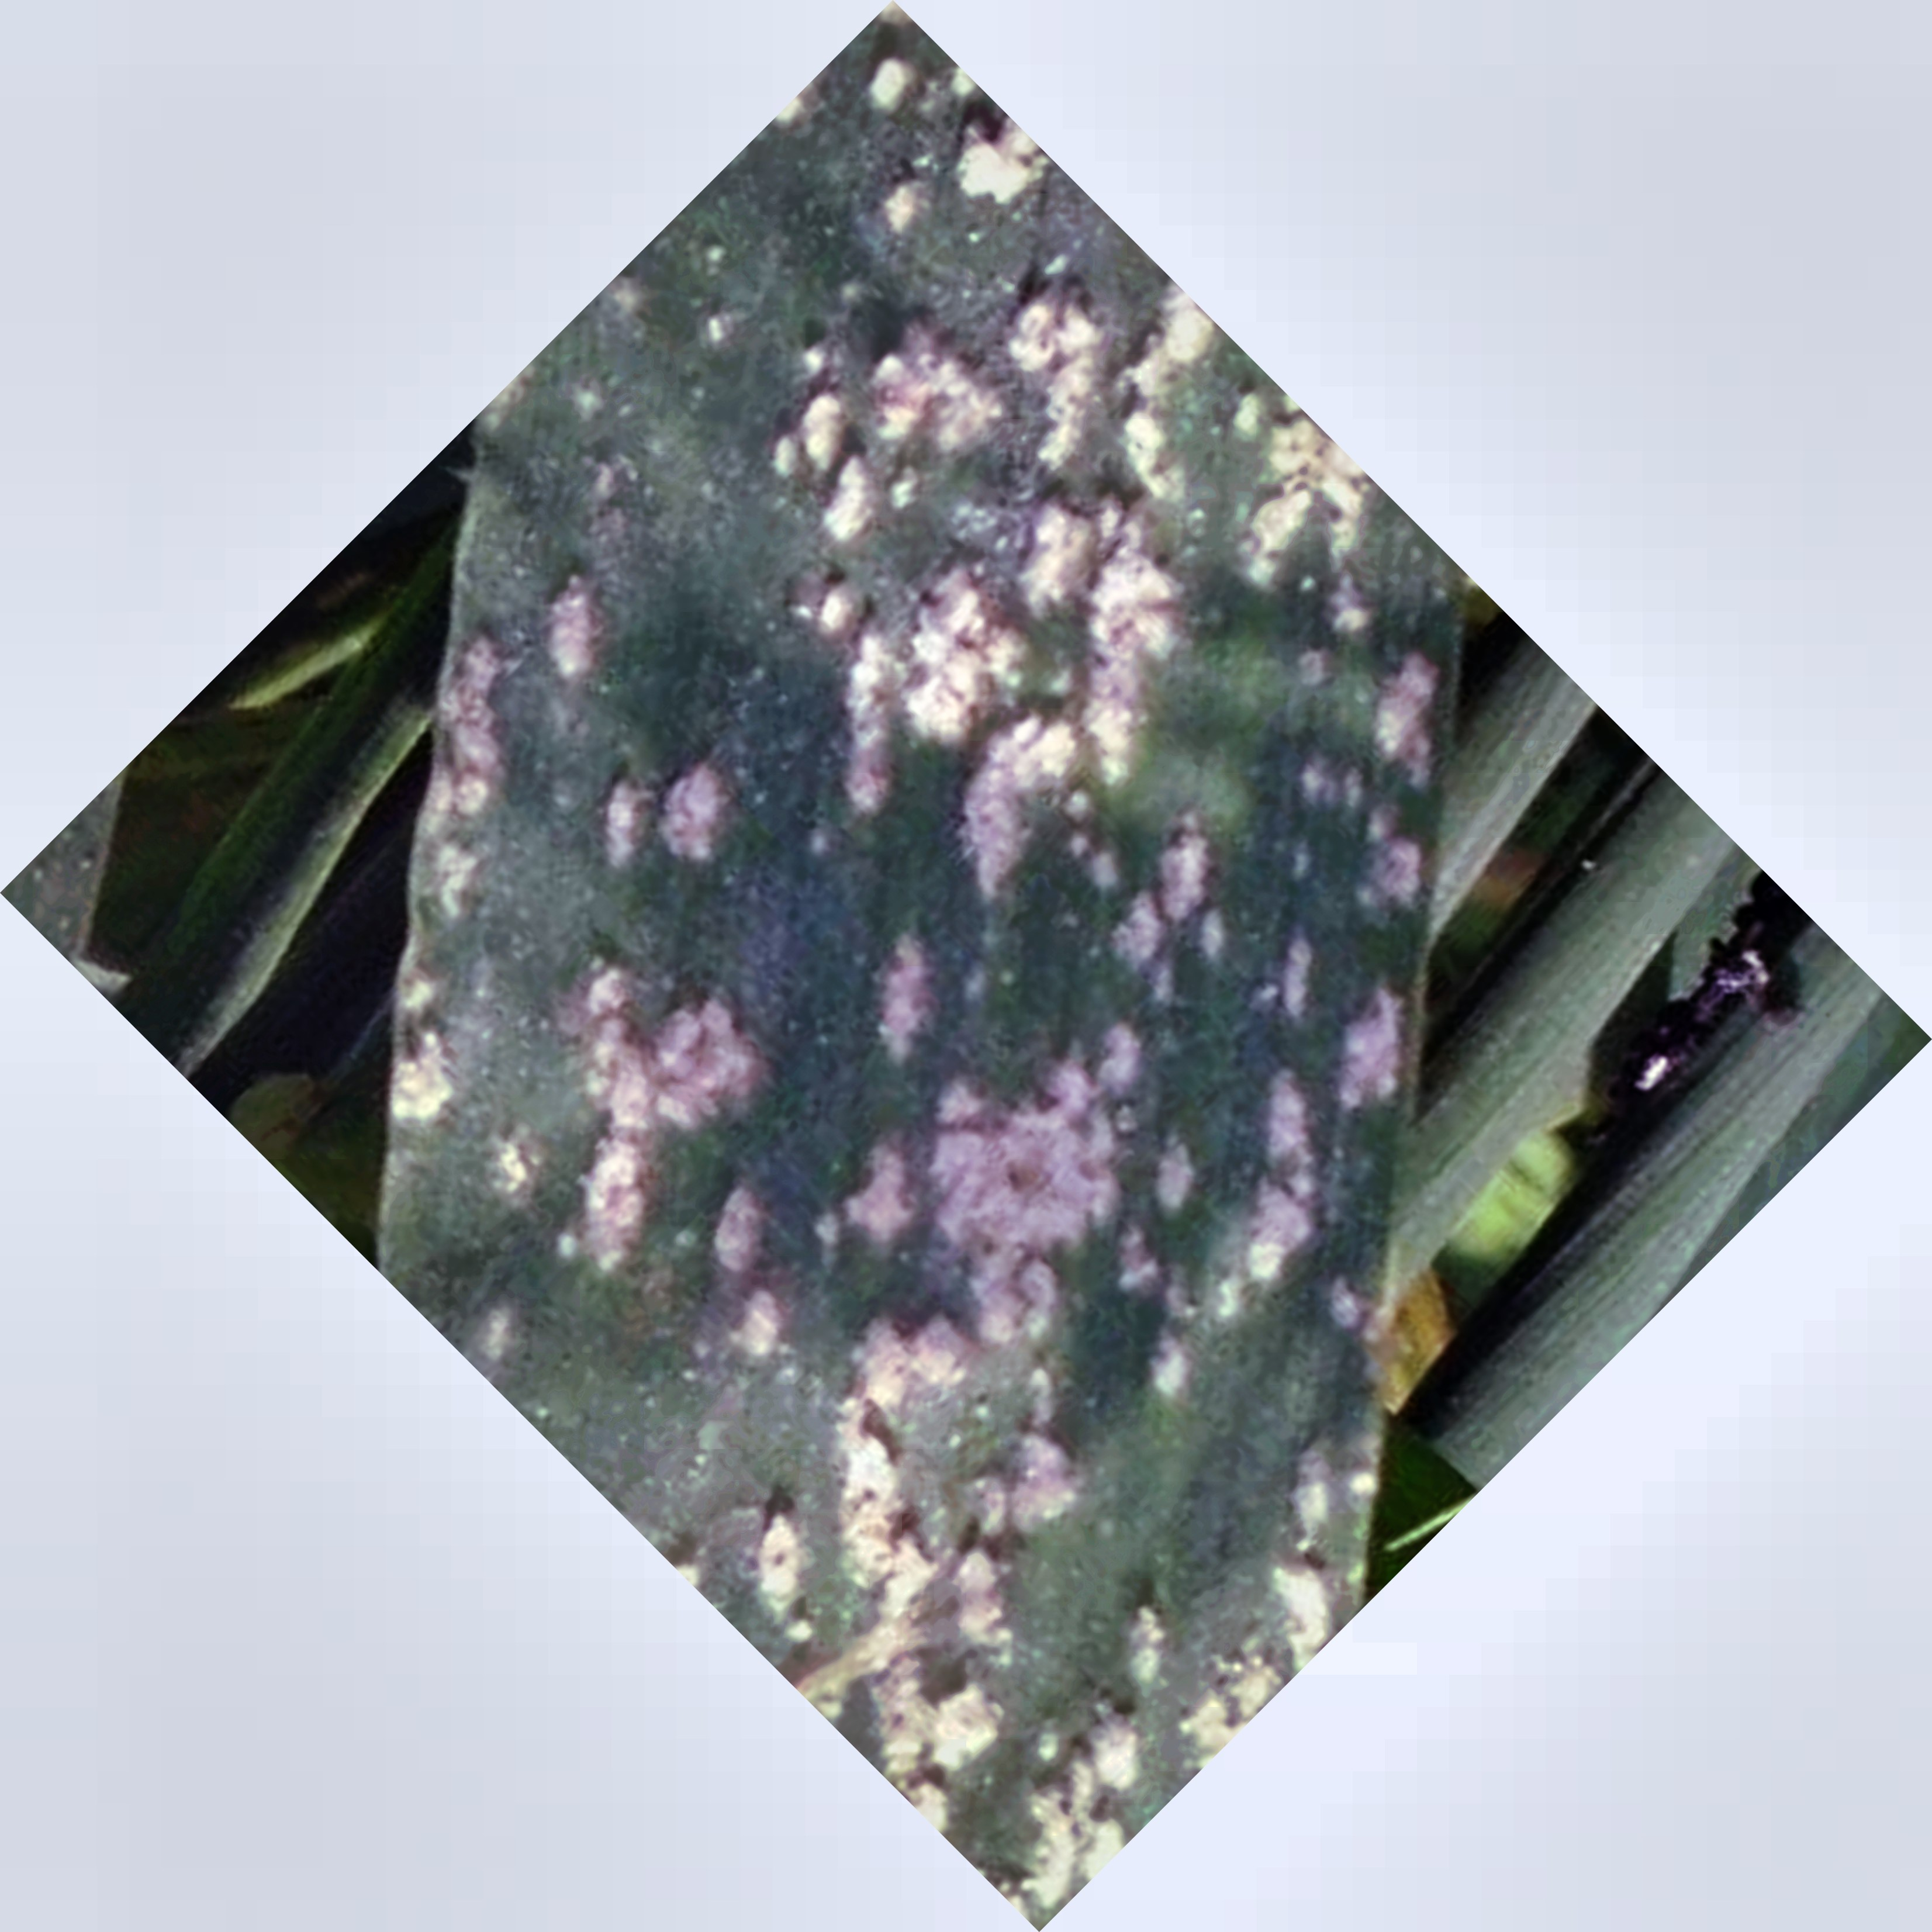Powdery Mildew: (439, 285, 1382, 1718)
